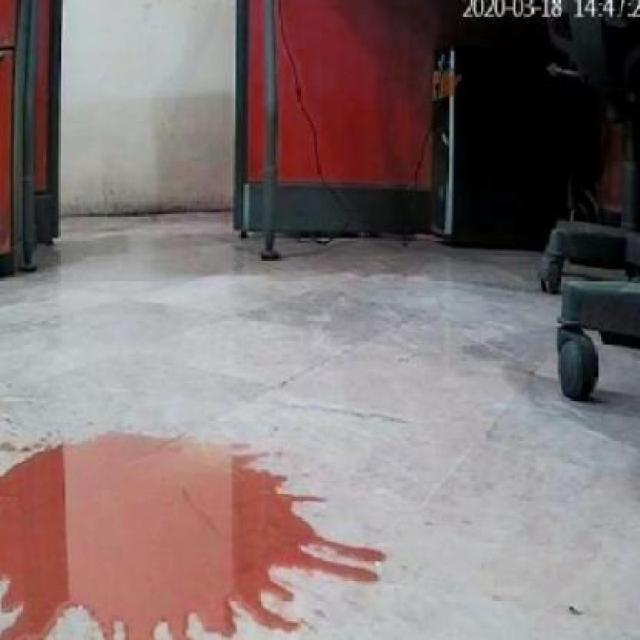spillage: (0, 434, 386, 640)
